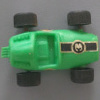verde: (4, 13, 96, 84)
